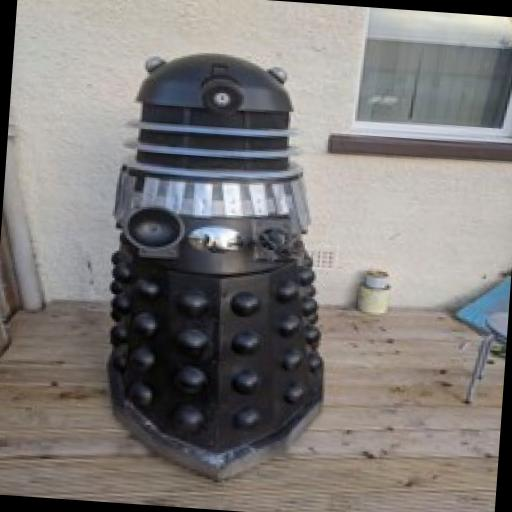dalek: (84, 45, 350, 492)
